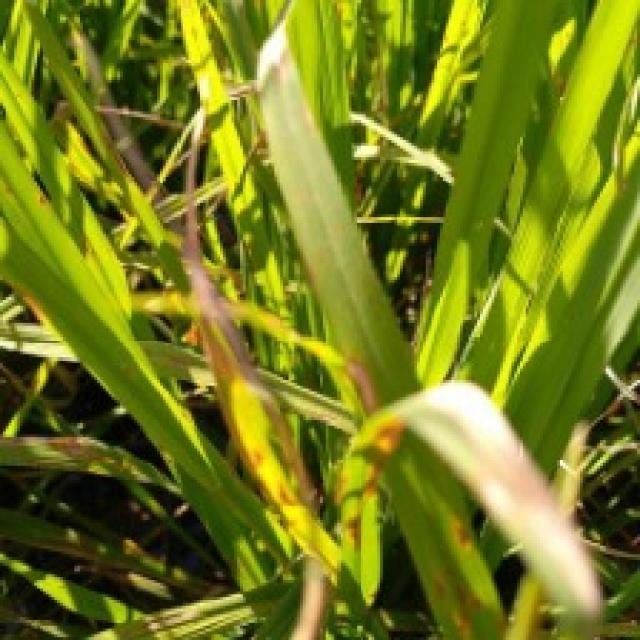Rice___Rice_Blast: (257, 21, 605, 637), (187, 83, 391, 637), (0, 438, 185, 493)
